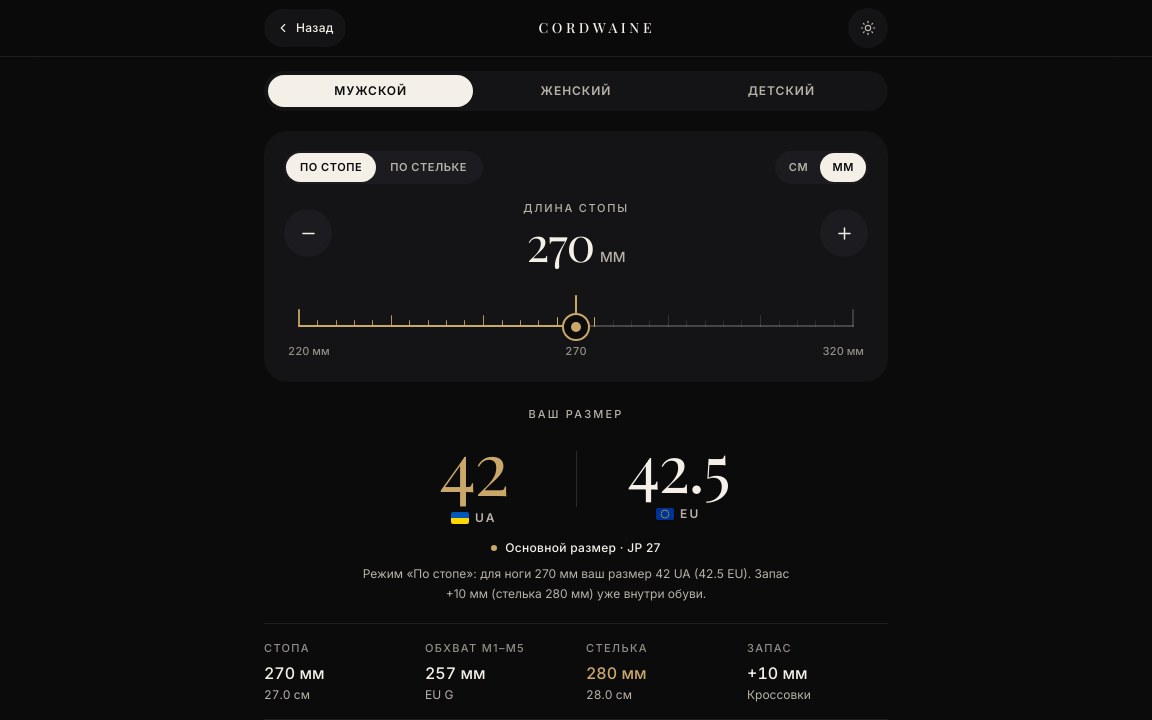
Test case: SizeCalcPage — интеграционные тесты › переключает режим «По стельке» и единицы измерения «см / мм»
The width and height of the screenshot is (1152, 720).
Click the button "По стельке" at (429, 167), box x1=376 y1=153 x2=481 y2=182
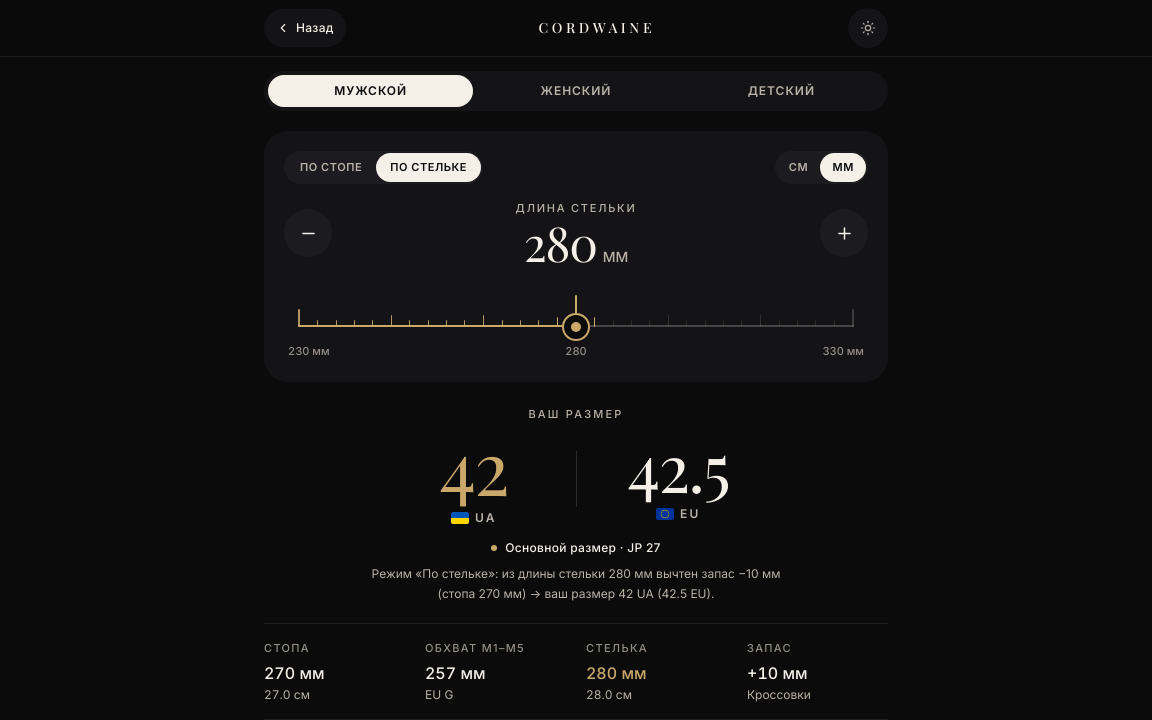
Check: the text "280" below "Длина стельки" is shown, box x1=524 y1=210 x2=597 y2=274
Click the button "см" at (799, 167), box x1=777 y1=153 x2=820 y2=182
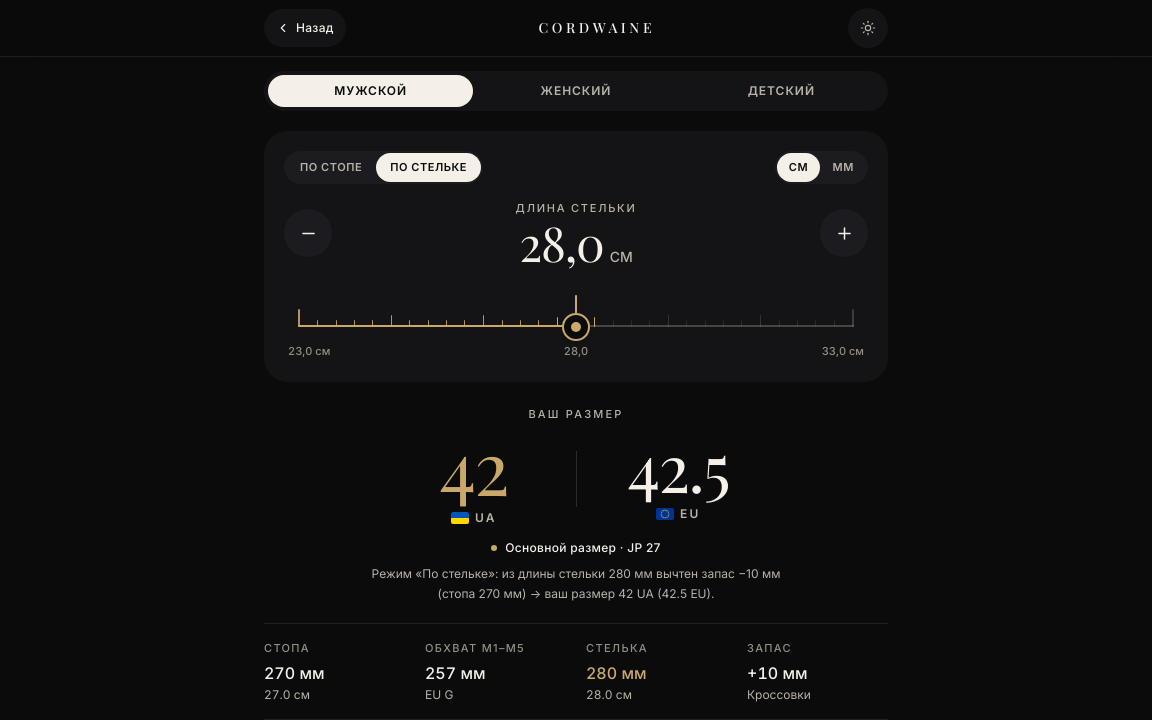
Check: the text "28,0" below "Длина стельки" is shown, box x1=519 y1=210 x2=604 y2=274
